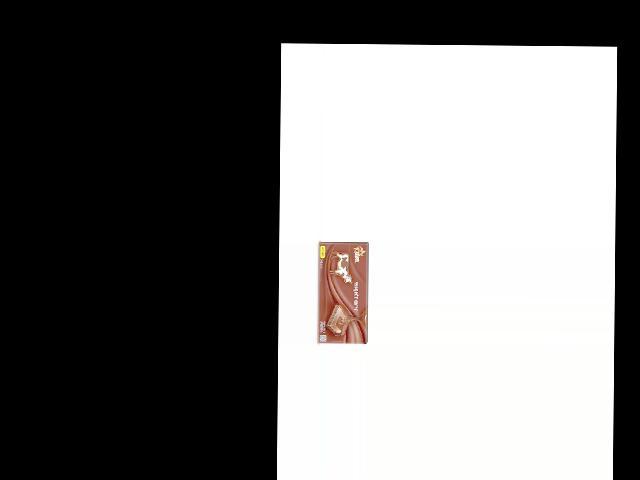chocolate: (317, 239, 369, 342)
